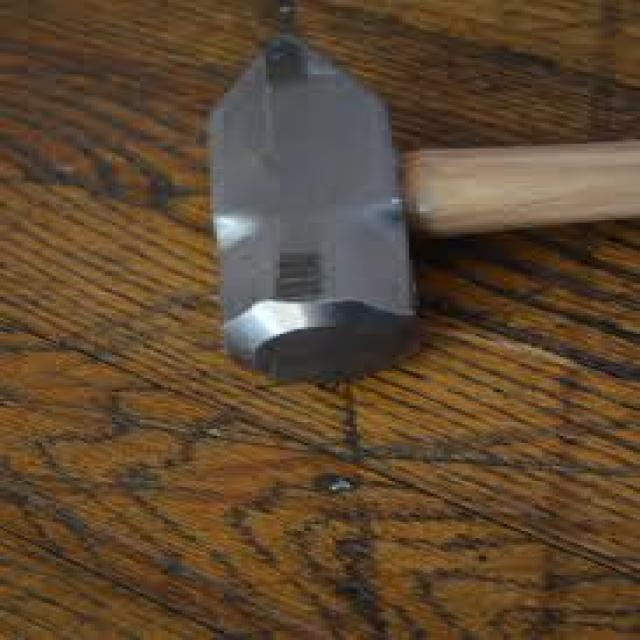hammer: (182, 17, 640, 393)
